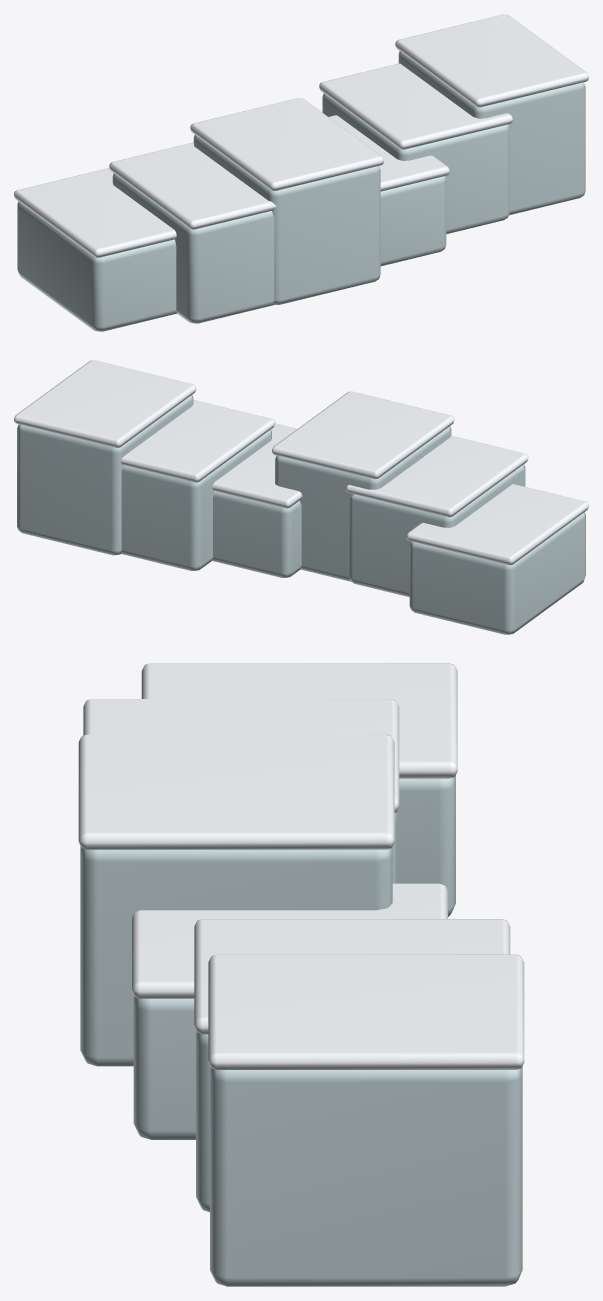
The model's file is glacier.glb.
The picture shows the model from 3 angles, top to bottom: view 1: azimuth 30°, elevation 25°; view 2: azimuth 150°, elevation 25°; view 3: azimuth 270°, elevation 25°; orthographic projection. The views are drawn at different scales.
Size of the model in its own units: 32.1 by 7.57 by 12.84.
